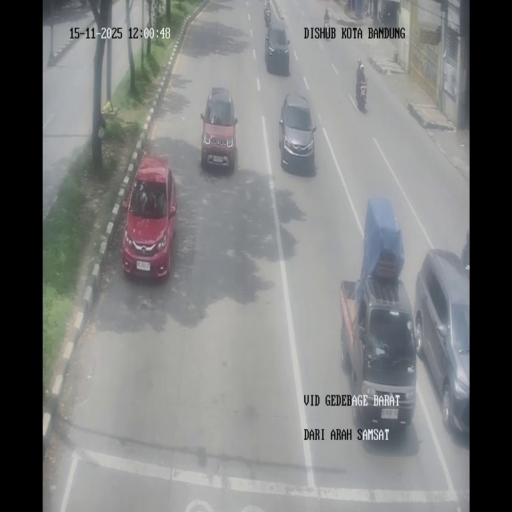car: (414, 251, 470, 439), (122, 157, 177, 279), (279, 92, 317, 174), (264, 17, 290, 74)
motorcycle: (356, 76, 368, 112), (264, 7, 271, 28), (364, 2, 372, 17), (324, 8, 330, 26), (345, 0, 351, 14), (378, 10, 382, 23)
truck: (339, 201, 415, 434)
